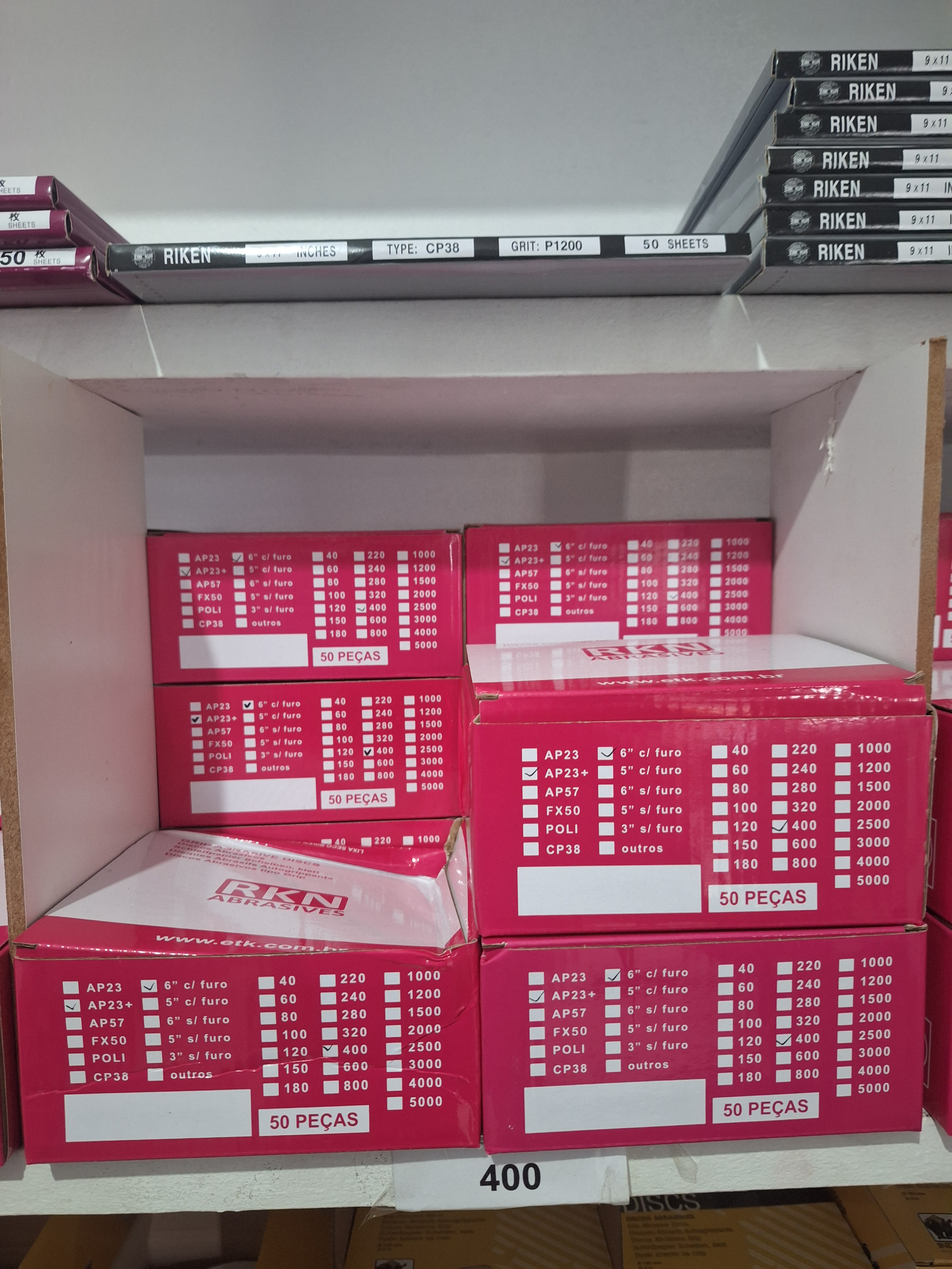grao: (491, 226, 606, 261)
objects: (5, 355, 939, 1228), (89, 179, 762, 311)
